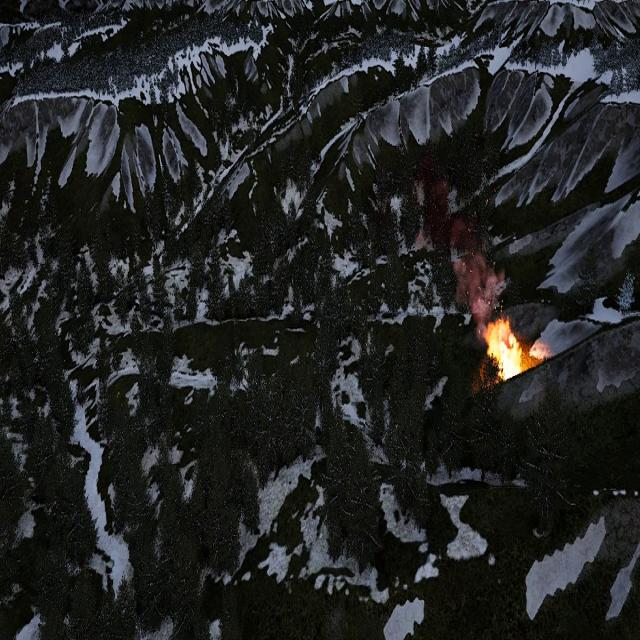fire: (485, 319, 524, 381)
smoke: (447, 210, 506, 334)
